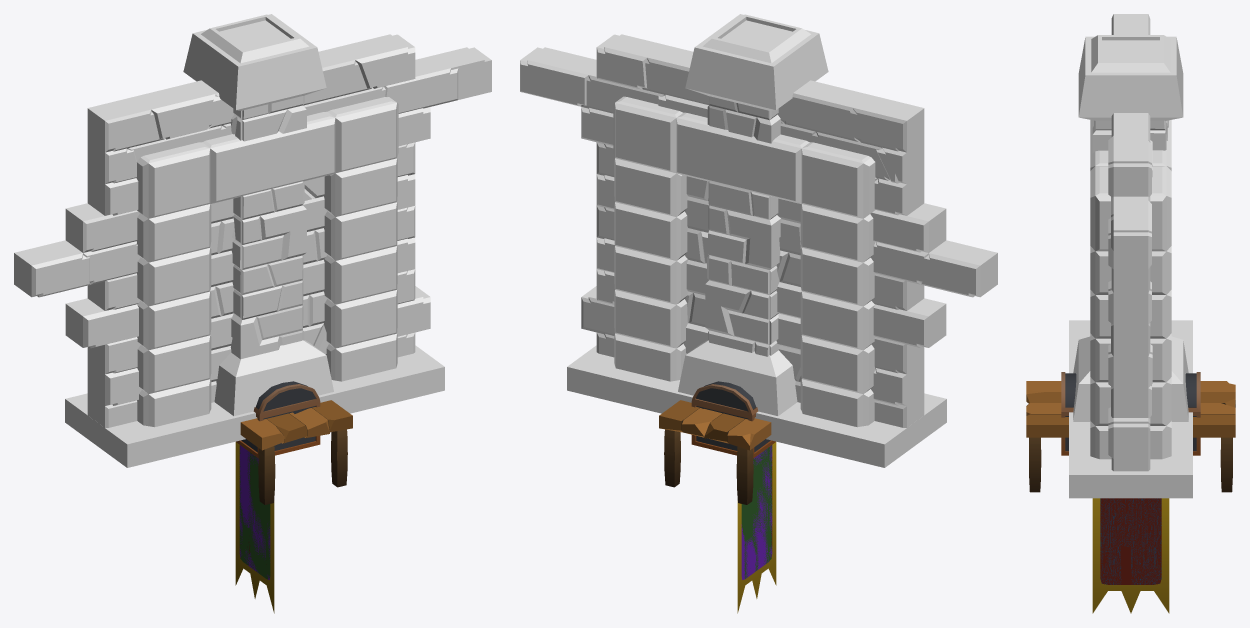
File: remake 4.5.fbx
3 renders of one model, left to right at view 1: azimuth 30°, elevation 25°; view 2: azimuth 150°, elevation 25°; view 3: azimuth 270°, elevation 25°, orthographic.
Parts seen in each view (by area): view 1: Cube.010, Cube, Cube.004, Cube.002, Cube.017, Plane.001, Plane.003, Cube.013, Chest_Bronze; view 2: Cube.010, Cube.004, Cube, Cube.002, Cube.017, Plane.001, Plane.003, Cube.013, Chest_Bronze; view 3: Cube.010, Cube.004, Cube, Plane, Cube.002, Cube.017, Plane.002, Cube.013, Chest_Bronze.
Part boxes in pixels (x1,y1,x2,y2): Cube.010: (14, 34, 484, 427); Cube: (37, 34, 491, 425); Cube.004: (183, 14, 333, 415); Cube.002: (65, 345, 444, 467); Cube.017: (240, 400, 352, 504); Plane.001: (235, 442, 274, 613); Plane.003: (235, 442, 274, 590); Cube.013: (254, 381, 319, 415); Chest_Bronze: (236, 401, 320, 458); Cube.010: (527, 34, 997, 427); Cube.004: (678, 14, 828, 415); Cube: (520, 34, 974, 425); Cube.002: (567, 345, 946, 467); Cube.017: (659, 400, 771, 504); Plane.001: (737, 442, 776, 613); Plane.003: (737, 444, 776, 596); Cube.013: (692, 381, 757, 415); Chest_Bronze: (691, 401, 775, 458); Cube.010: (1090, 14, 1171, 459); Cube.004: (1073, 35, 1188, 421); Cube: (1108, 163, 1152, 471); Plane: (1092, 498, 1169, 613); Cube.002: (1069, 320, 1192, 498); Cube.017: (1026, 381, 1235, 492); Plane.002: (1092, 498, 1169, 608); Cube.013: (1061, 372, 1200, 411); Chest_Bronze: (1061, 412, 1200, 455).
Bounding box in the file's own units: 1520 × 1787 × 600.
12 materials, 9 textured.
